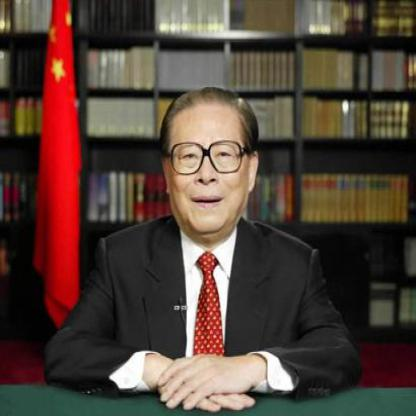face: (167, 93, 252, 237)
